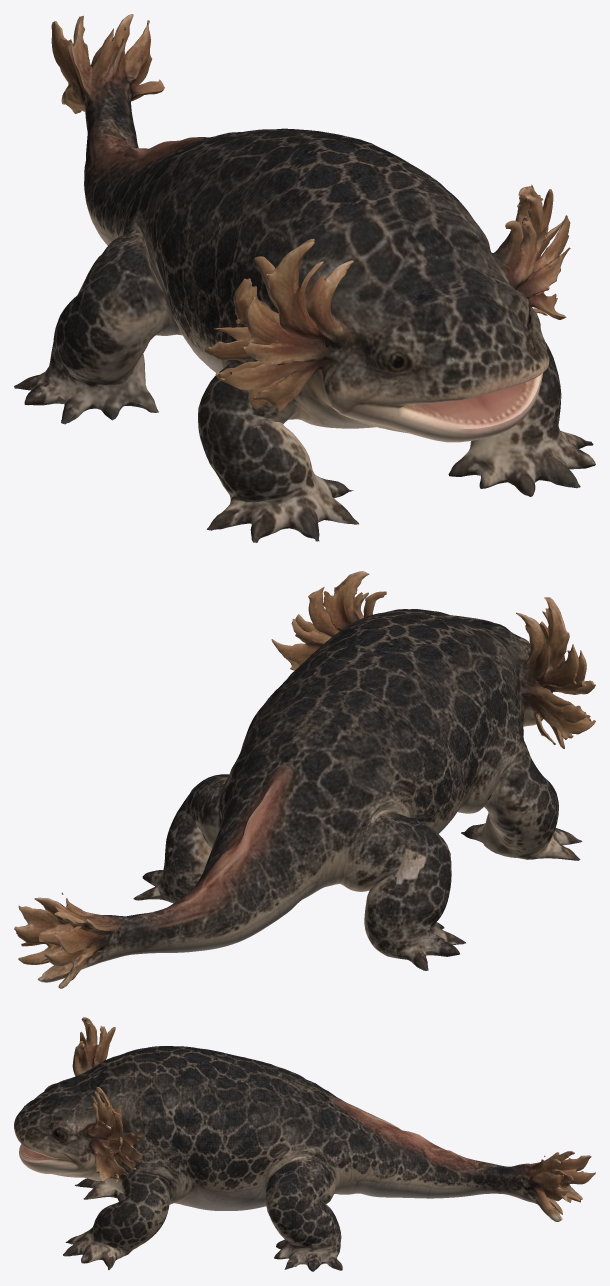
Rendered from mirejaw.glb.
3 views of the same model, one above another, from view 1: azimuth 30°, elevation 25°; view 2: azimuth 150°, elevation 25°; view 3: azimuth 270°, elevation 25° (orthographic). The views are drawn at different scales.
Parts seen in each view (by area): view 1: Mesh_0; view 2: Mesh_0; view 3: Mesh_0.
Boxes of the visible parts, x1,y1,x2,y2 form: Mesh_0: [14, 14, 595, 542]; Mesh_0: [14, 571, 595, 988]; Mesh_0: [14, 1017, 595, 1271].
Bounding box in the file's own units: 0.8728 × 0.6071 × 1.9.
1 material, 1 textured.
